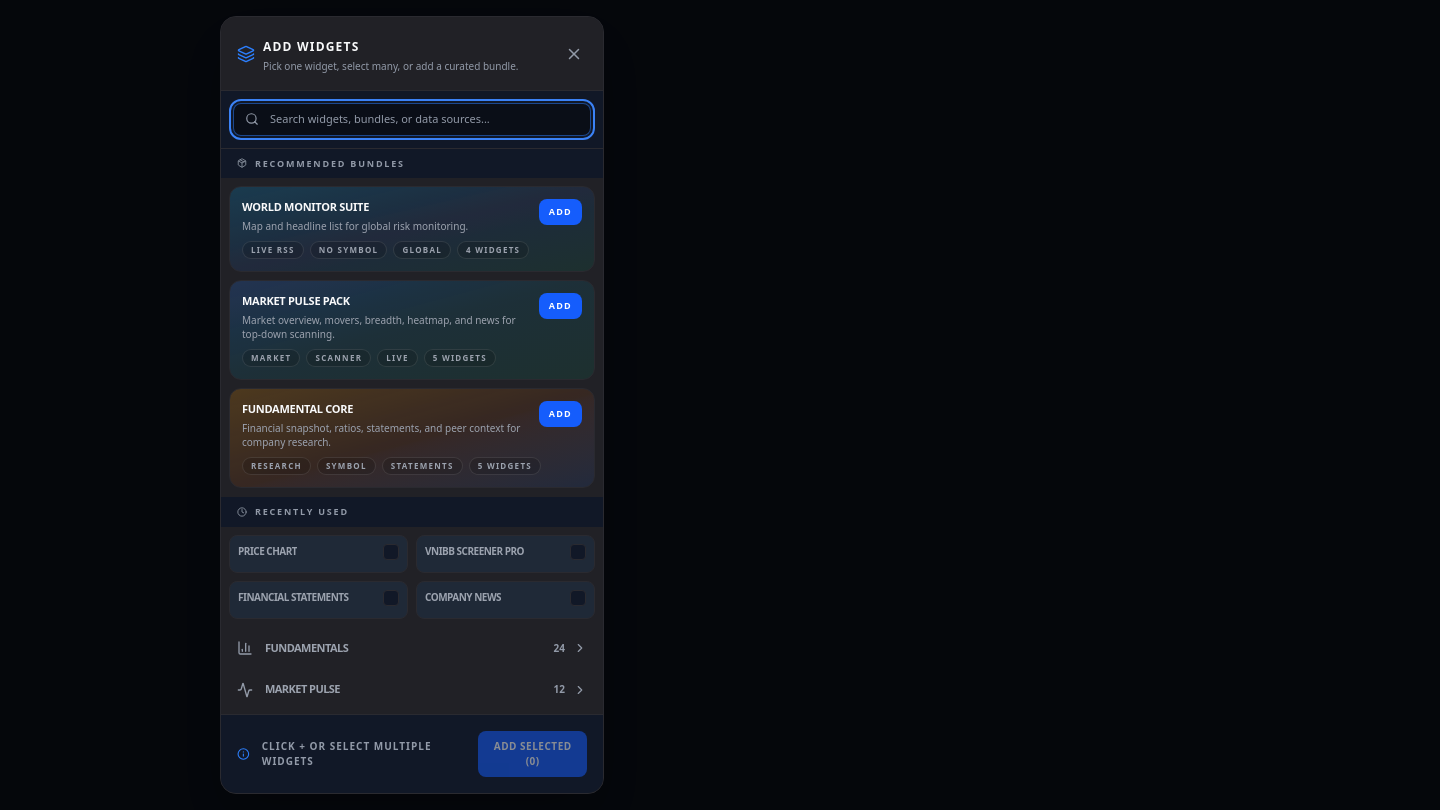
Test: WidgetLibrary drawer recovery › states that nothing matched and offers a way back
The image size is (1440, 810).
In the field with placeholder "Search widgets, bundles, or data sources...": [412, 119] box [233,103,591,136], type "zzz-no-such-widget"
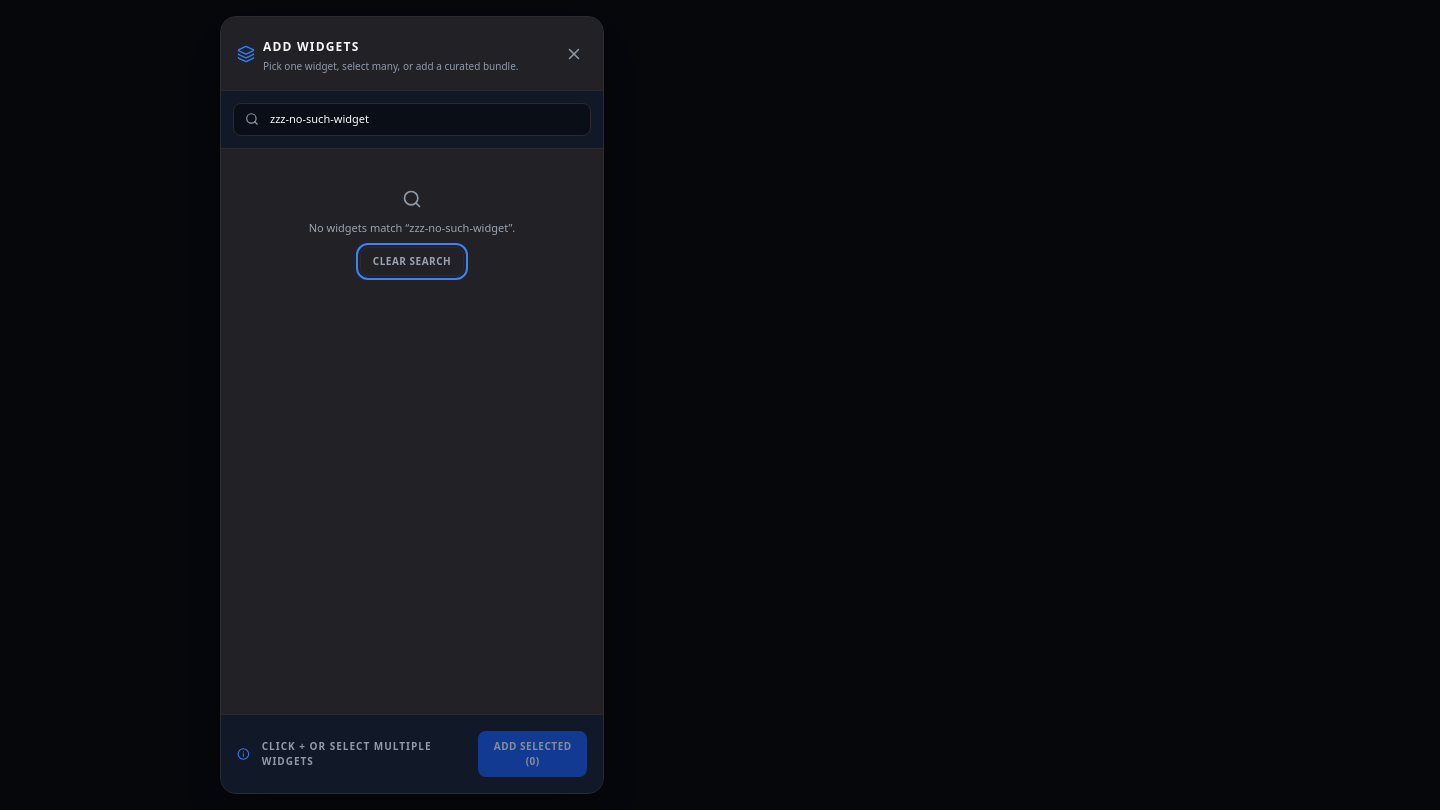
Result: the text "No widgets match “zzz-no-such-widget”." is shown at [309,221,515,235]
Click the button "Clear search": [412, 262] box [360,247,464,276]
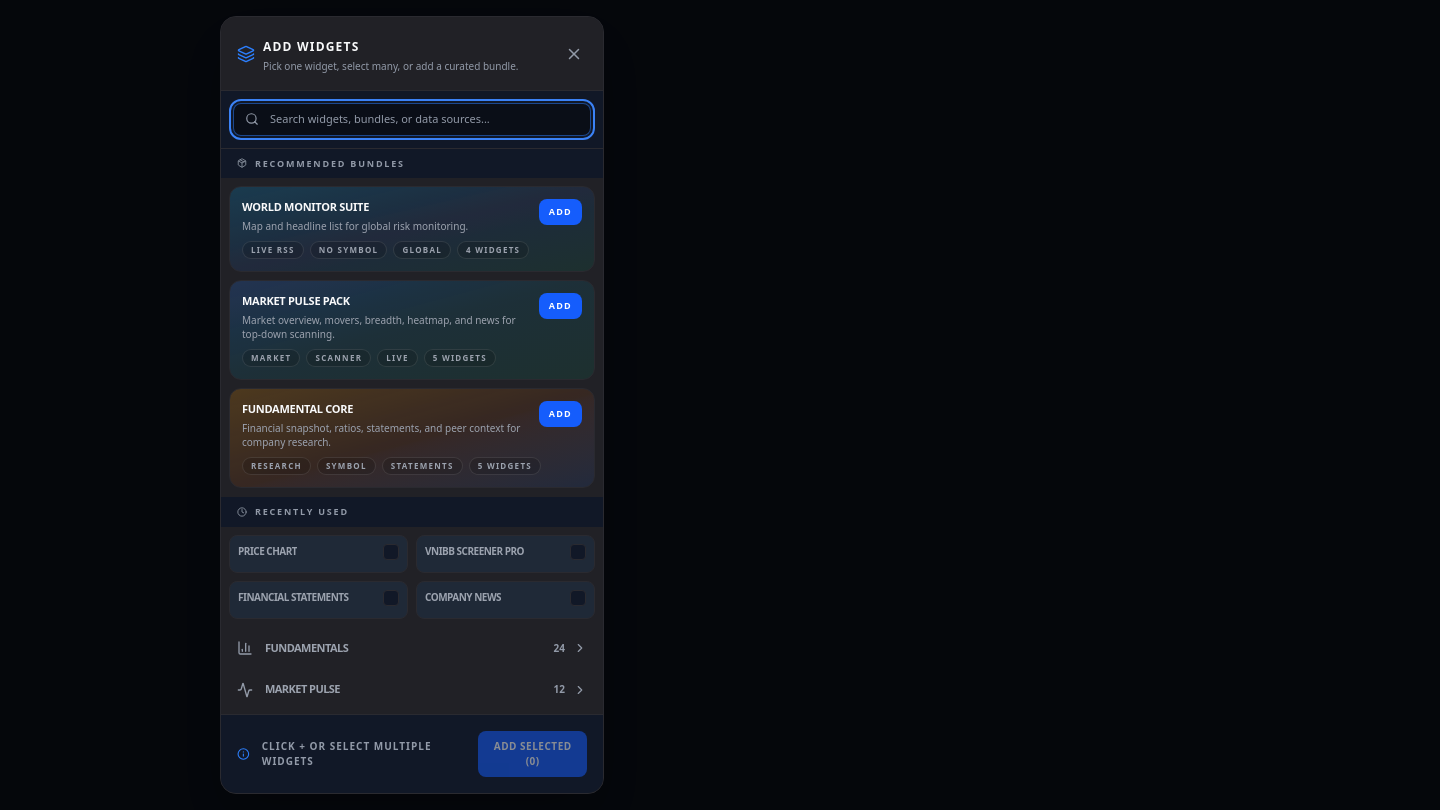
Result: the text "No widgets match" is gone
Result: the text "Recommended Bundles" is shown at [221,149,603,178]
